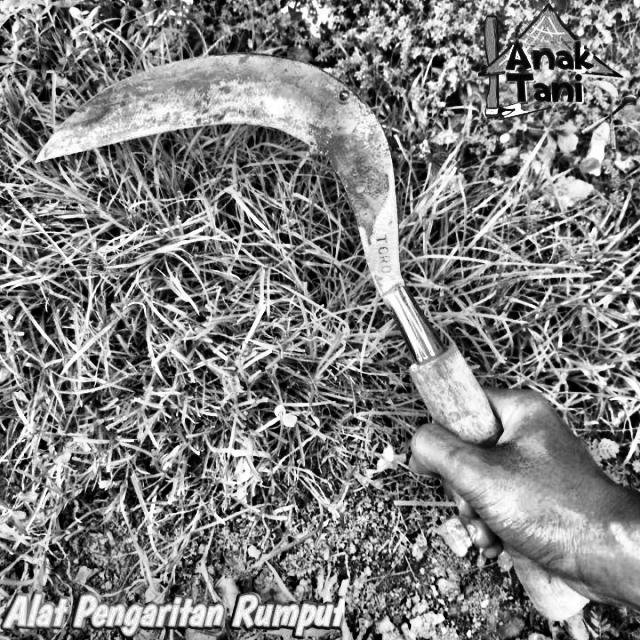celurit: (7, 42, 612, 626)
